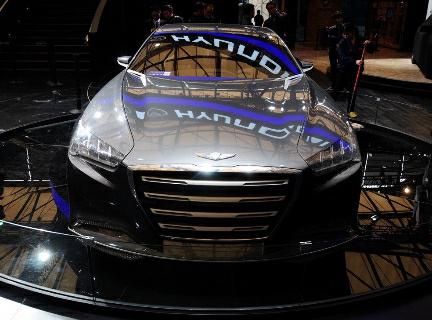现代-劳恩斯: (43, 24, 378, 293)
